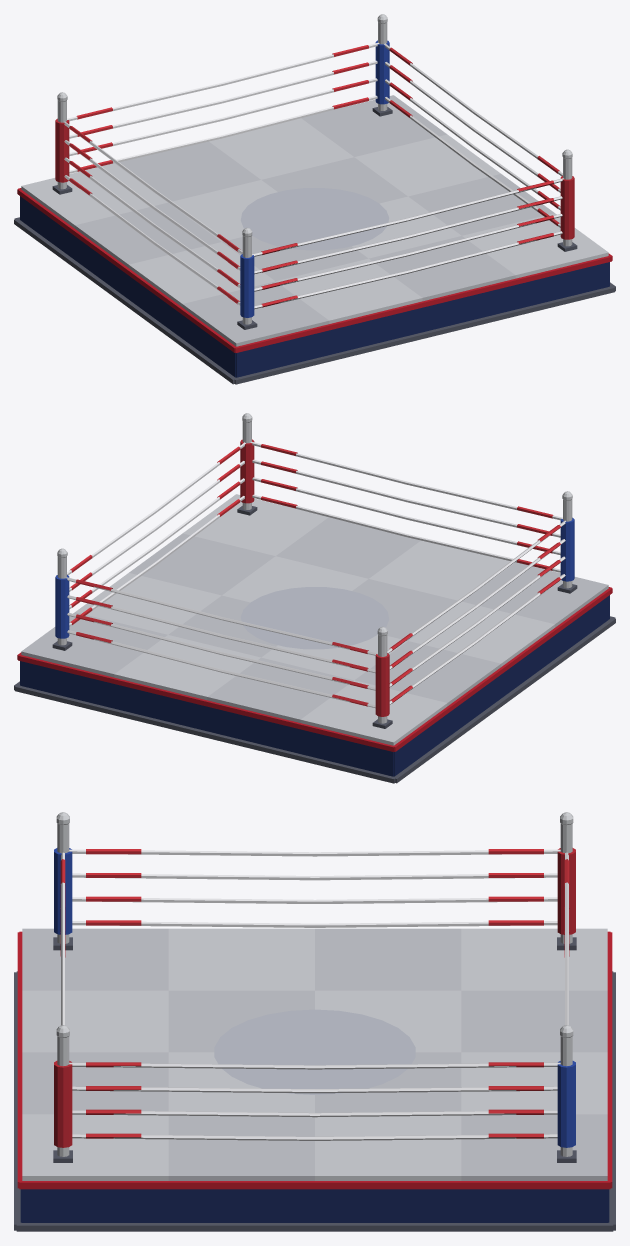
The model's file is boxing_ring.obj.
3 renders of one model, top to bottom at view 1: azimuth 30°, elevation 25°; view 2: azimuth 150°, elevation 25°; view 3: azimuth 270°, elevation 25°, orthographic. The views are drawn at different scales.
Parts seen in each view (by area): view 1: boxing_ring; view 2: boxing_ring; view 3: boxing_ring.
Part boxes in pixels (box(x1,y1,x2,y2)): boxing_ring: box(14, 14, 615, 384); boxing_ring: box(14, 413, 615, 783); boxing_ring: box(14, 812, 615, 1231).
Bounding box in the file's own units: 11 × 3.73 × 11.
